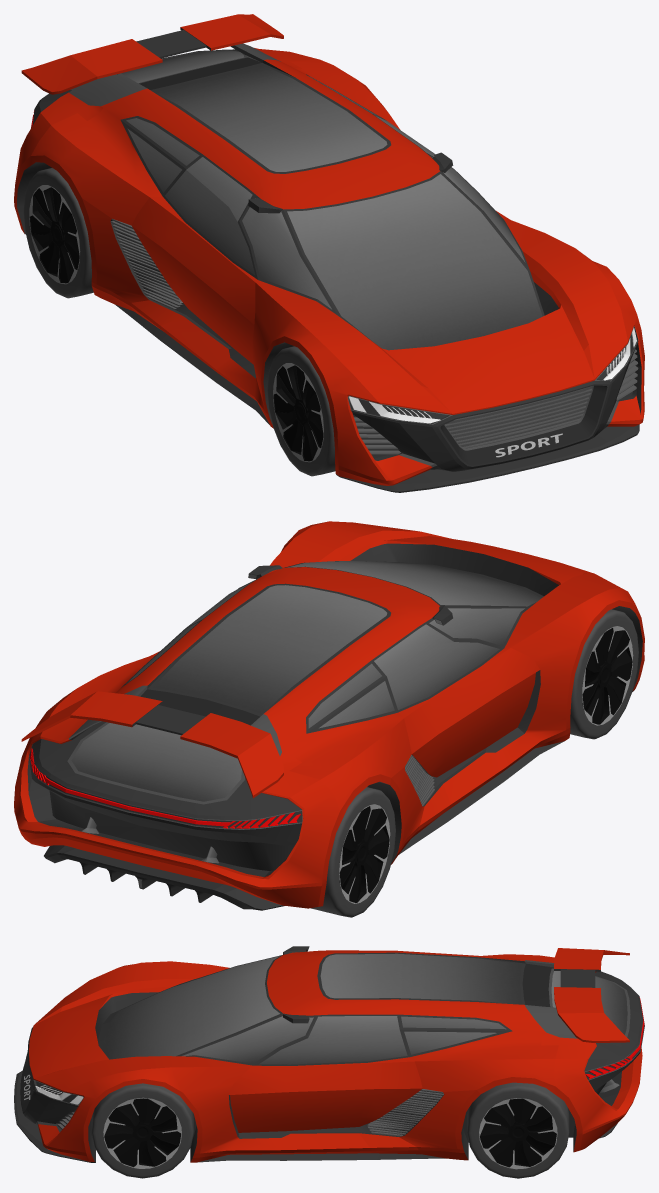
Rendered from car 5.FBX.
3 views of the same model, one above another, from view 1: azimuth 30°, elevation 25°; view 2: azimuth 150°, elevation 25°; view 3: azimuth 270°, elevation 25° (orthographic). The views are drawn at different scales.
Visible parts, largest first — view 1: Body, Wheel_BR, Wheel_FR; view 2: Body, Wheel_BR, Wheel_FR; view 3: Body, Wheel_BL, Wheel_FL.
Boxes of the visible parts, x1,y1,x2,y2 form: Body: (14, 14, 644, 492); Wheel_BR: (23, 168, 93, 298); Wheel_FR: (267, 346, 335, 476); Body: (14, 521, 644, 910); Wheel_BR: (311, 787, 395, 917); Wheel_FR: (570, 609, 638, 739); Body: (14, 946, 644, 1162); Wheel_BL: (467, 1082, 569, 1178); Wheel_FL: (91, 1083, 193, 1178).
Bounding box in the file's own units: 62.62 × 36.52 × 142.
Materials: 5 (2 with a texture image).
